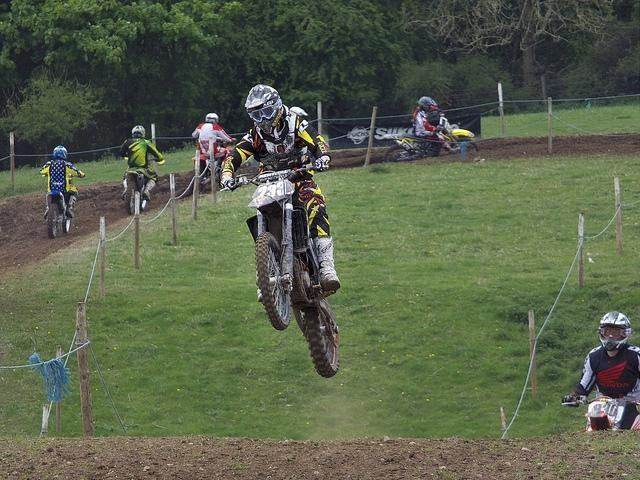motorcycle: (228, 160, 344, 374), (379, 111, 479, 160), (562, 396, 626, 430), (192, 137, 228, 193), (44, 196, 76, 243), (126, 171, 150, 215), (402, 132, 434, 154), (248, 200, 263, 232), (144, 158, 160, 181)
